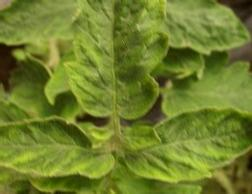Tomato leaf yellow virus: (63, 0, 161, 125), (123, 106, 252, 192), (0, 118, 114, 189), (129, 0, 252, 55), (0, 0, 82, 60)
